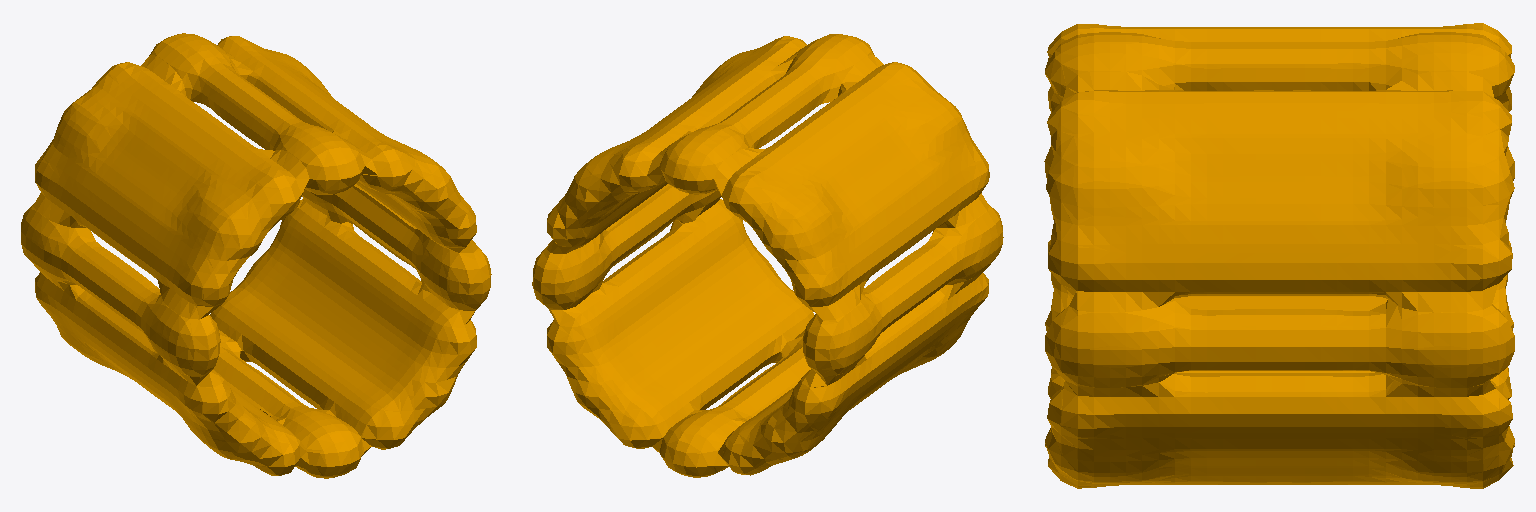
robot.urdf — G14_0:
<?xml version="1.0"?>
<robot name="G14_0">
  <link name="base_link">
    <visual>
      <geometry>
        <mesh filename="../../../../meshes/egad/train/G14_0.obj" />
      </geometry>
    </visual>
  </link>
</robot>

--- Render facts (derived) ---
Views: 3 orthographic renders of the robot side by side, from view 1: azimuth 30°, elevation 25°; view 2: azimuth 150°, elevation 25°; view 3: azimuth 270°, elevation 25°.
Robot: G14_0 — 1 links, 0 joints (none); root link base_link; default pose: every joint at zero.
Visible links, largest first — view 1: base_link; view 2: base_link; view 3: base_link.
Link boxes in pixels (box(x1,y1,x2,y2)): base_link: box(21, 33, 491, 478); base_link: box(532, 34, 1003, 477); base_link: box(1044, 23, 1514, 488).
Size in the robot's own frame: 0.0622 by 0.061 by 0.0622 metres.
Meshes: 1 distinct files referenced, 1 mesh visuals loaded (1 OBJ).